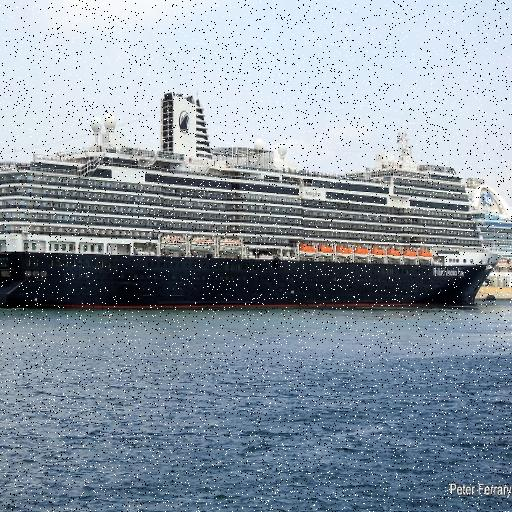cruises: (1, 86, 506, 320)
